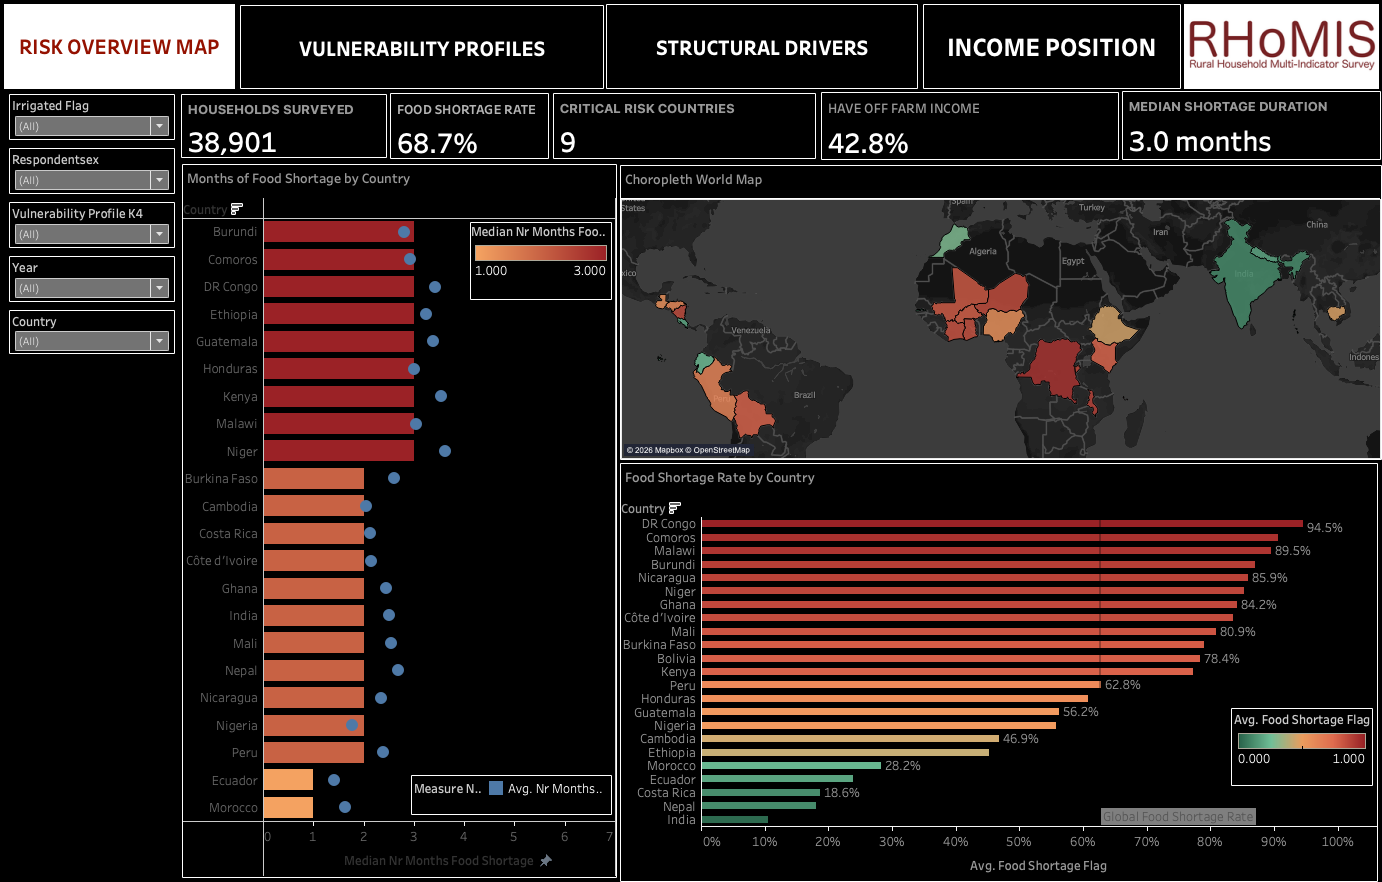

What the dashboard file says about the page in this screenshot:
{"tool":"tableau","page":{"name":"RISK OVERVIEW MAP","canvas":[1400,900],"ordinal":1},"visuals":[{"type":"text","box":[13,13,231,85]},{"type":"dashboard-object","box":[615,13,312,85]},{"type":"dashboard-object","box":[932,13,258,85]},{"type":"image","param":"Image/rhomis-logo.png","box":[1197,13,193,82]},{"type":"dashboard-object","box":[249,14,364,84]},{"type":"filter","title":"KPI1 - HOUSEHOLD SURVEYED","param":"[federated.18g2uha1kfgs62108f3sf1ksln33].[none:irrigated_flag:ok]","box":[14,100,174,54]},{"type":"worksheet","title":"KPI1 - MEDIAN SHORTAGE DURATION","mark":"Automatic","box":[1131,100,259,69]},{"type":"worksheet","title":"KPI1- HAVE OFF FARM INCOME","mark":"Automatic","box":[830,101,298,68]},{"type":"worksheet","title":"KPI1 - FOOD SHORTAGE RATE","mark":"Automatic","box":[399,102,159,66]},{"type":"worksheet","title":"KPI1 - CRITICAL RISK COUNTRIES","mark":"Automatic","box":[562,102,263,66]},{"type":"worksheet","title":"KPI1 - HOUSEHOLD SURVEYED","mark":"Automatic","box":[189,103,207,64]},{"type":"filter","title":"KPI1 - HOUSEHOLD SURVEYED","param":"[federated.18g2uha1kfgs62108f3sf1ksln33].[none:respondentsex:nk]","box":[14,154,174,54]},{"type":"worksheet","title":"Months of Food Shortage by Country","mark":"Bar","rows":["country"],"cols":["nr_months_food_shortage","nr_months_food_shortage"],"box":[191,173,435,714]},{"type":"worksheet","title":"Choropleth World Map","mark":"Multipolygon","box":[629,174,762,295]},{"type":"filter","title":"KPI1 - HOUSEHOLD SURVEYED","param":"[federated.18g2uha1kfgs62108f3sf1ksln33].[none:vulnerability_profile_k4:nk]","box":[14,208,174,54]},{"type":"legend","title":"Months of Food Shortage by Country","param":"[federated.18g2uha1kfgs62108f3sf1ksln33].[med:nr_months_food_shortage:qk]","box":[479,231,142,78]},{"type":"filter","title":"KPI1 - HOUSEHOLD SURVEYED","param":"[federated.18g2uha1kfgs62108f3sf1ksln33].[none:year:ok]","box":[14,262,174,54]},{"type":"filter","title":"KPI1 - HOUSEHOLD SURVEYED","param":"[federated.18g2uha1kfgs62108f3sf1ksln33].[none:country:nk]","box":[14,316,174,54]},{"type":"worksheet","title":"Food Shortage Rate by Country","mark":"Bar","rows":["country"],"cols":["food_shortage_flag"],"box":[629,472,758,419]},{"type":"legend","title":"Choropleth World Map","param":"[federated.18g2uha1kfgs62108f3sf1ksln33].[avg:food_shortage_flag:qk]","box":[1240,717,142,78]},{"type":"legend","title":"Months of Food Shortage by Country","param":"[federated.18g2uha1kfgs62108f3sf1ksln33].[:Measure Names]","box":[420,784,201,40]}]}

Visuals, with their boxes in screenshot pixels (x1, y1, x2, y2), scaled from the page's 1400x900 canvas onto the 1383x882 screenshot:
text: 13/13/241/96
dashboard-object: 608/13/916/96
dashboard-object: 921/13/1176/96
image: 1182/13/1373/93
dashboard-object: 246/14/606/96
"KPI1 - HOUSEHOLD SURVEYED" filter: 14/98/186/151
"KPI1 - MEDIAN SHORTAGE DURATION" worksheet: 1117/98/1373/166
"KPI1- HAVE OFF FARM INCOME" worksheet: 820/99/1114/166
"KPI1 - FOOD SHORTAGE RATE" worksheet: 394/100/551/165
"KPI1 - CRITICAL RISK COUNTRIES" worksheet: 555/100/815/165
"KPI1 - HOUSEHOLD SURVEYED" worksheet: 187/101/391/164
"KPI1 - HOUSEHOLD SURVEYED" filter: 14/151/186/204
"Months of Food Shortage by Country" worksheet (Bar marks): 189/170/618/869
"Choropleth World Map" worksheet (Multipolygon marks): 621/171/1374/460
"KPI1 - HOUSEHOLD SURVEYED" filter: 14/204/186/257
"Months of Food Shortage by Country" legend: 473/226/613/303
"KPI1 - HOUSEHOLD SURVEYED" filter: 14/257/186/310
"KPI1 - HOUSEHOLD SURVEYED" filter: 14/310/186/363
"Food Shortage Rate by Country" worksheet (Bar marks): 621/463/1370/873
"Choropleth World Map" legend: 1225/703/1365/779
"Months of Food Shortage by Country" legend: 415/768/613/808
